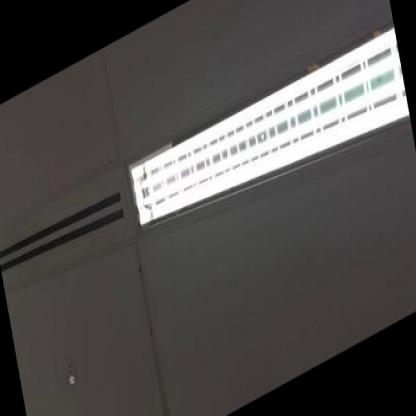light_on: (117, 0, 411, 275)
